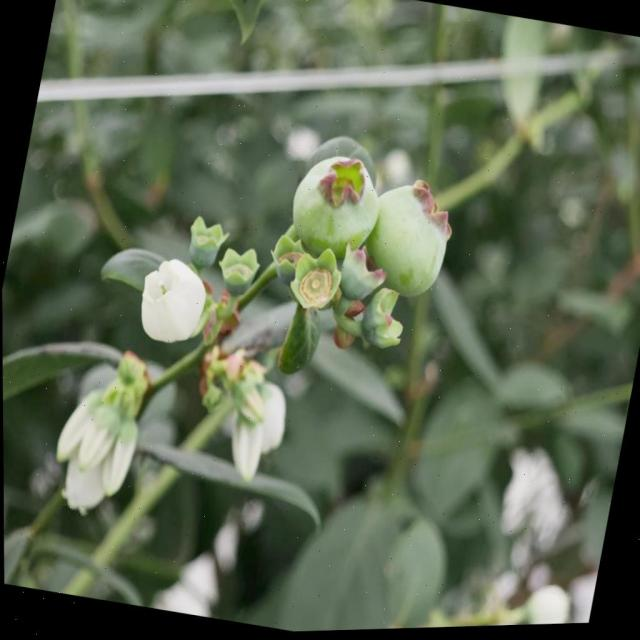UnripeBlueBerry: (356, 177, 462, 310), (281, 145, 388, 267)
